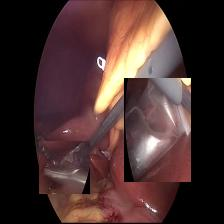Grasper: (39, 141, 90, 194)
Specimen Bag: (124, 78, 191, 182)
